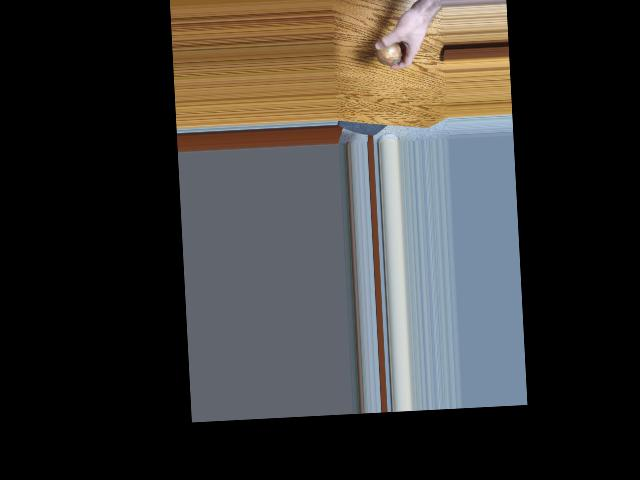onion: (376, 38, 401, 66)
